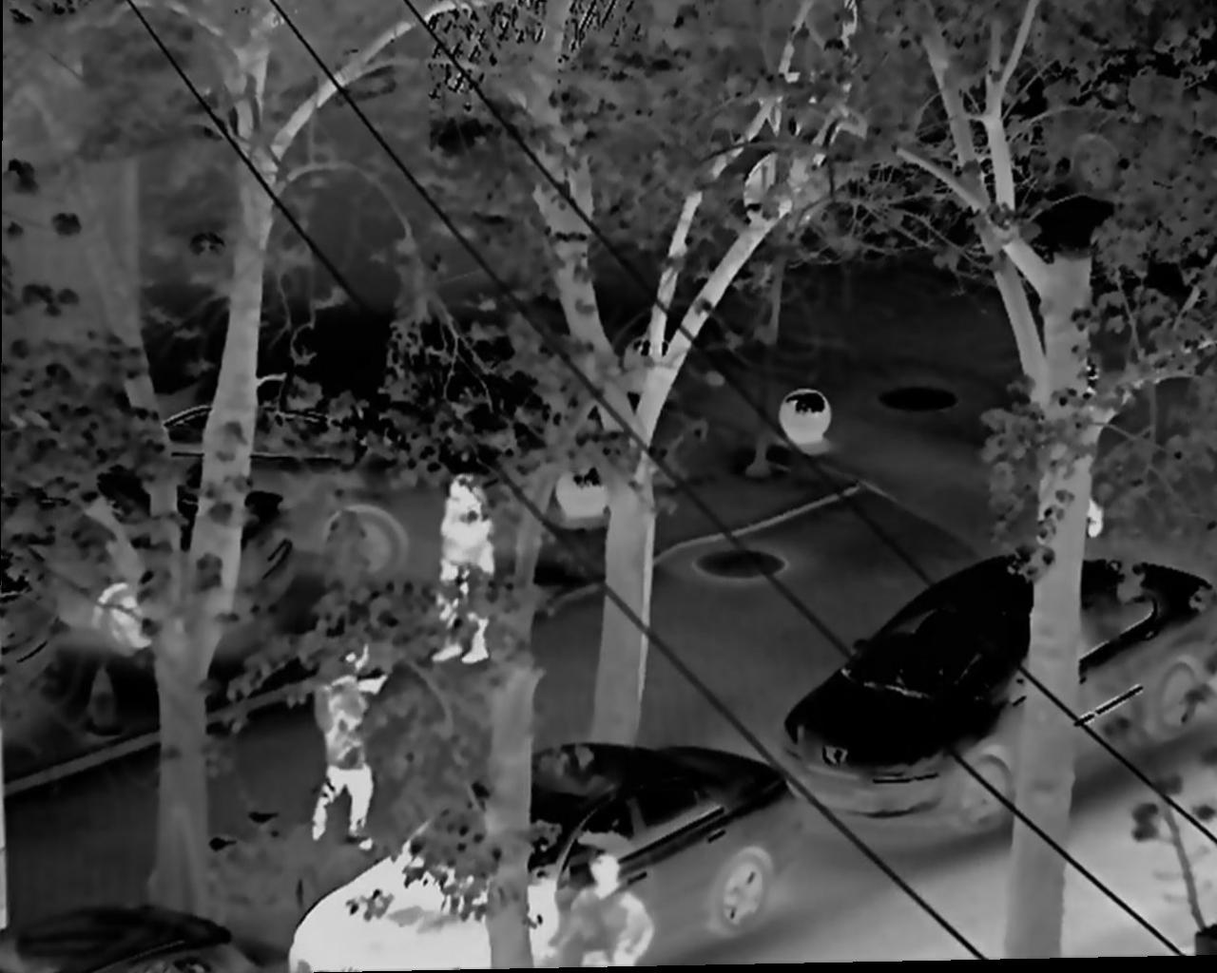person: (299, 637, 381, 858), (429, 478, 493, 673), (559, 857, 658, 972), (1042, 383, 1109, 546)
